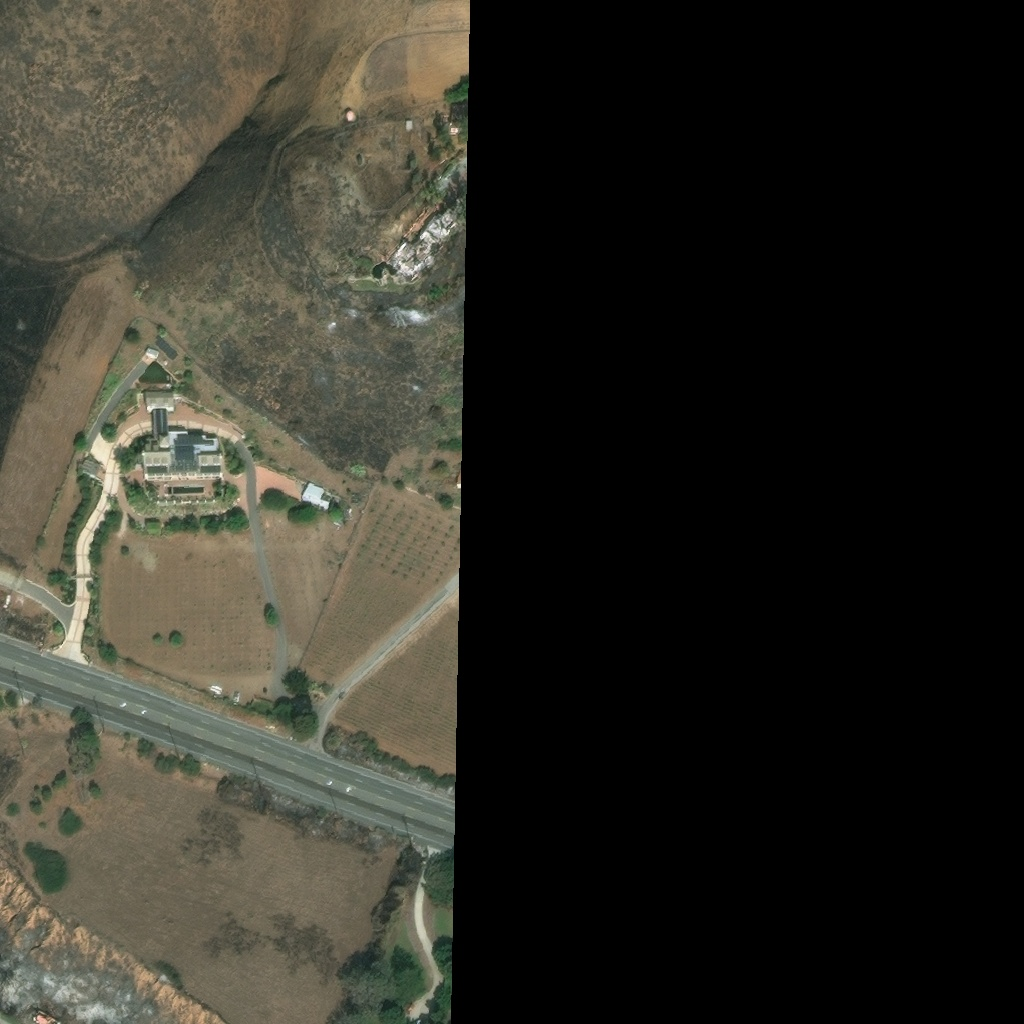0 no-damage: (141, 392, 222, 478), (300, 481, 332, 513), (153, 334, 180, 361), (80, 460, 103, 480), (210, 684, 225, 697), (147, 347, 161, 359), (345, 111, 355, 122), (405, 121, 412, 132)
1 minor-damage: (31, 1007, 64, 1023)
3 destroyed: (384, 211, 456, 283), (441, 168, 467, 218)
